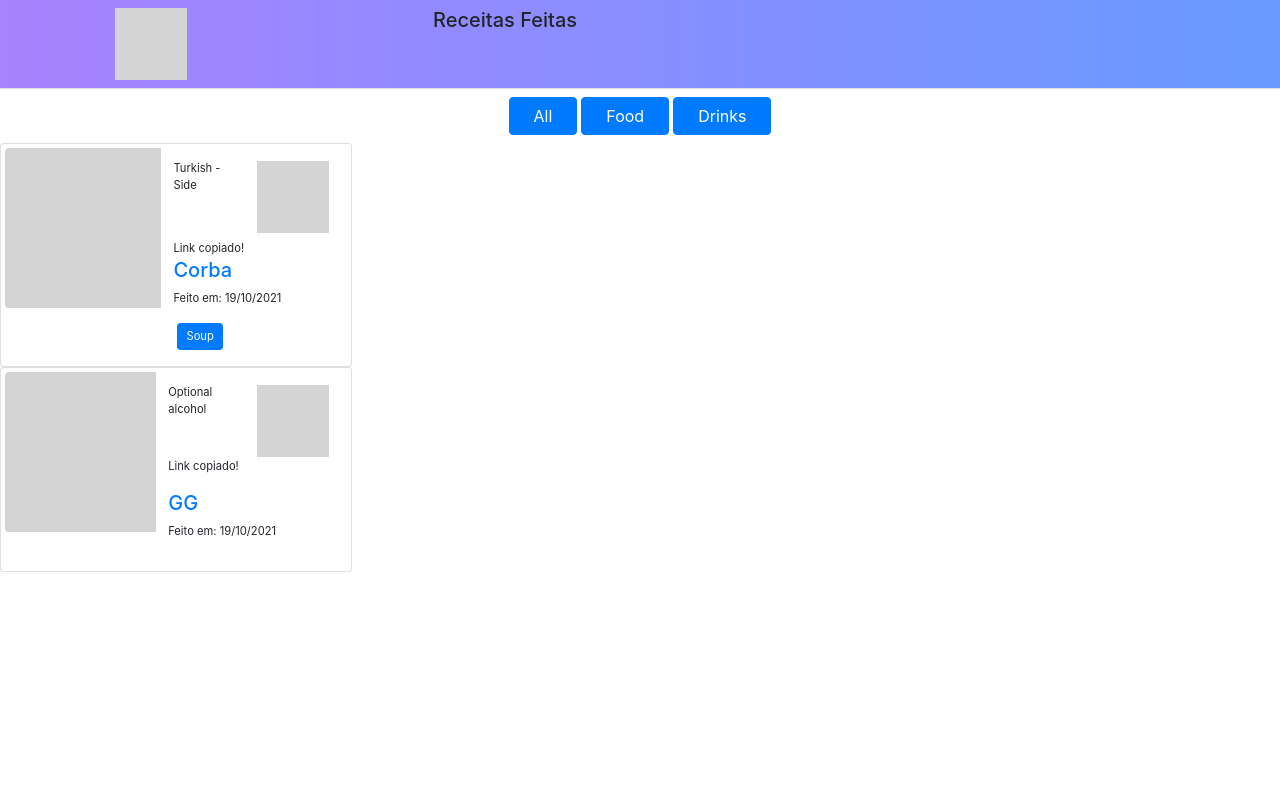
Test case: Cobertura do componente CardsMade › Verificando se o botão de filtro food esta funcionando
This screenshot has width=1280, height=800.
Click the button with test id "filter-by-food-btn": (625, 116) [581,97,669,135]
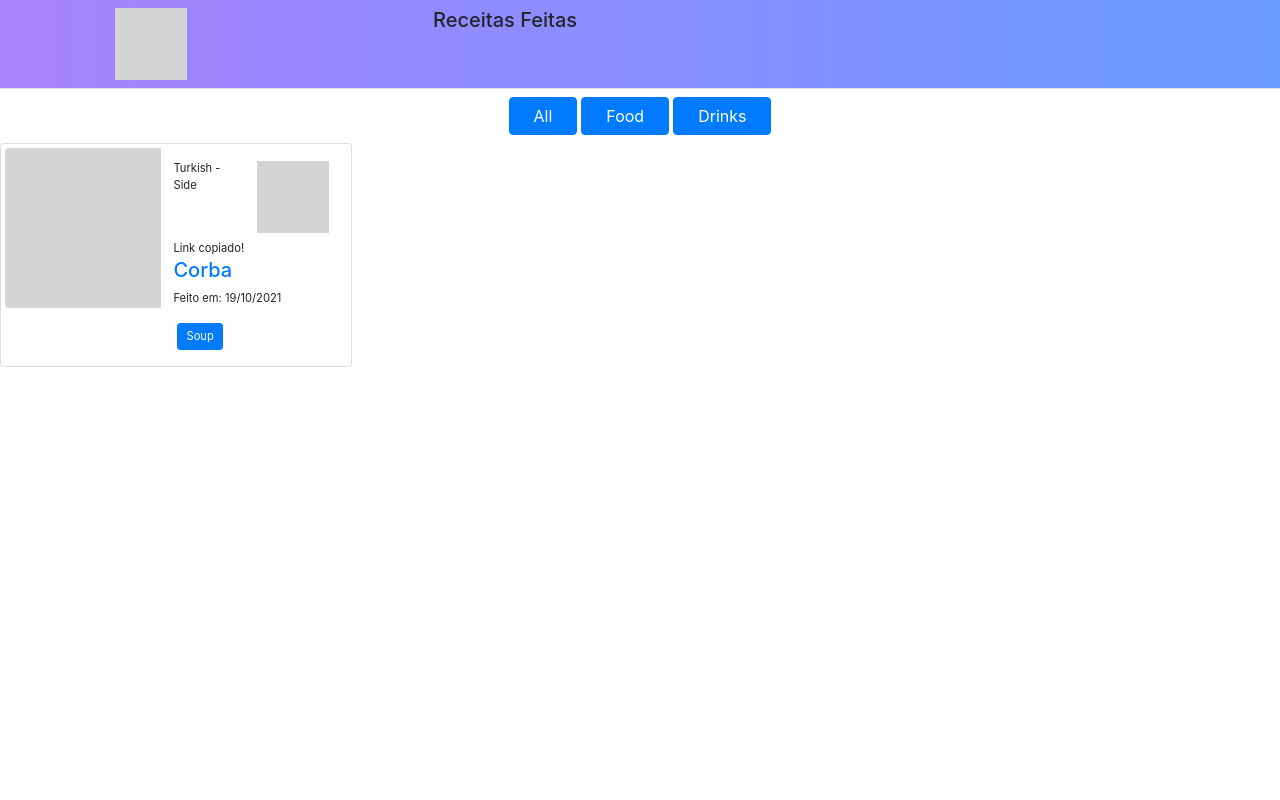
Expected: the heading "Corba" is shown, [174,258,232,282]
Result: the heading with test id "1-horizontal-name" is gone
